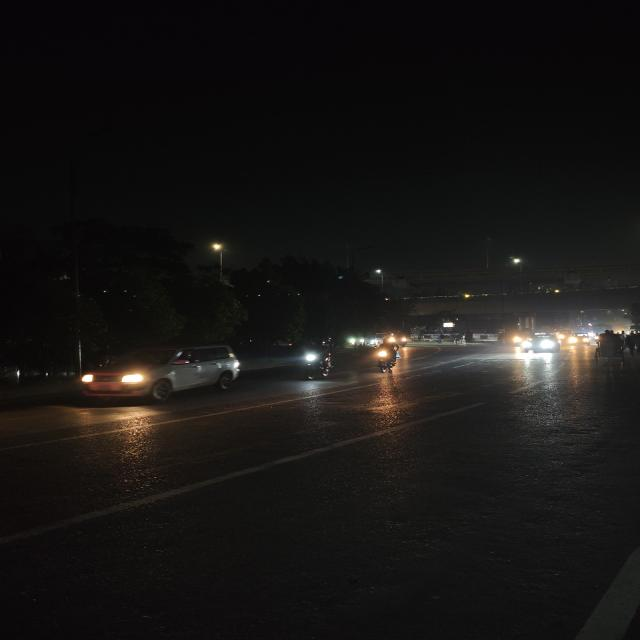car: (83, 340, 250, 410), (524, 332, 560, 354), (570, 332, 592, 347)
motorcycle: (297, 339, 337, 383), (369, 341, 406, 375)
pedestrian: (594, 329, 620, 363), (624, 328, 640, 357)
rickshaw: (452, 333, 476, 347)
